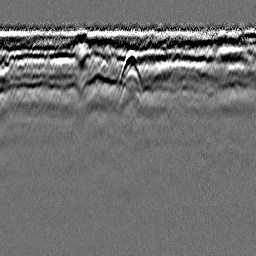cavity: (119, 49, 144, 88)
